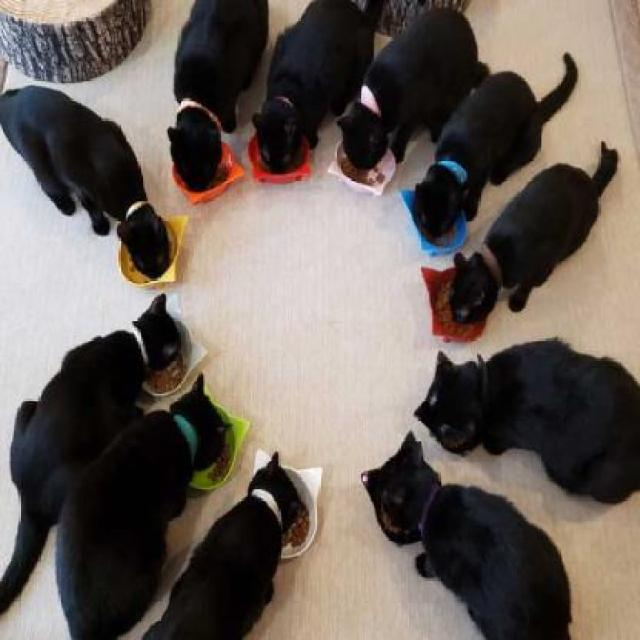cat: (0, 292, 186, 613), (54, 370, 237, 638), (357, 436, 575, 638), (412, 338, 639, 508), (0, 86, 172, 279), (412, 51, 580, 248), (448, 138, 622, 327), (147, 447, 308, 639), (335, 0, 488, 177), (250, 0, 389, 175), (165, 0, 271, 195)
